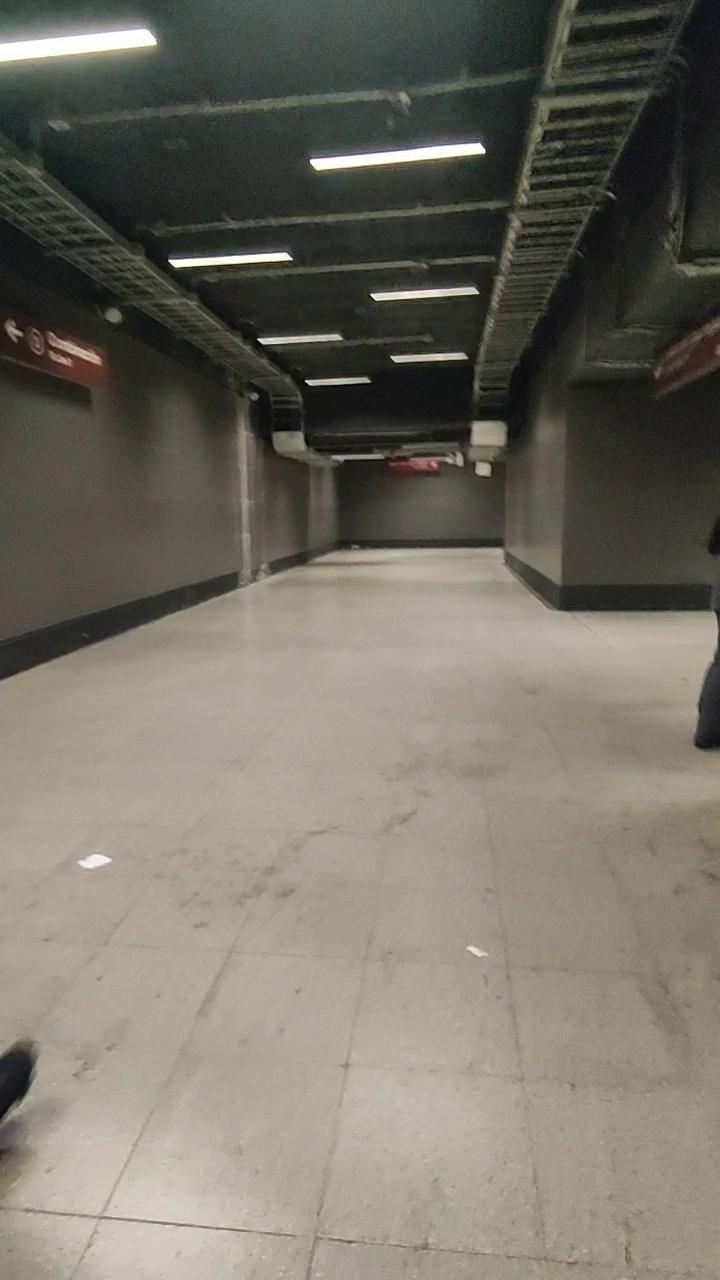left arrow: (5, 320, 25, 346)
